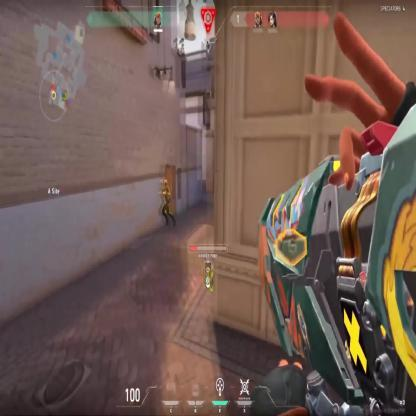enemy: (160, 178, 174, 228)
enemy_head: (163, 179, 168, 187)
